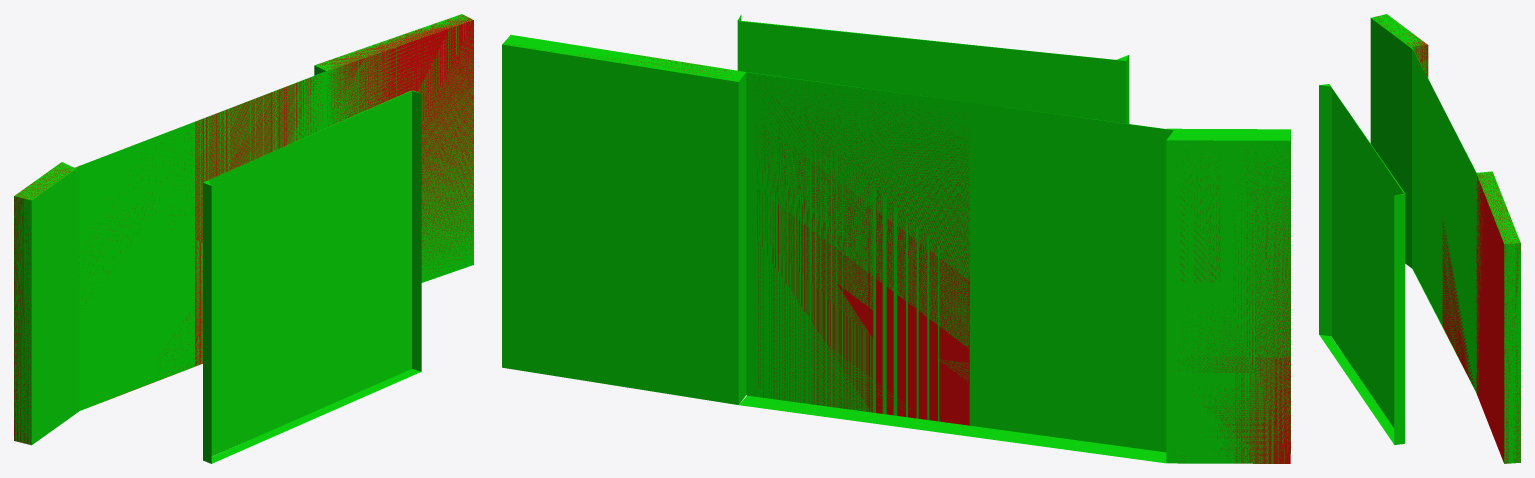
File: InvisibleWall_009.fbx
3 views of the same model, side by side, from view 1: azimuth 30°, elevation 25°; view 2: azimuth 150°, elevation 25°; view 3: azimuth 270°, elevation 25° (orthographic). The views are drawn at different scales.
Visible parts, largest first — view 1: Designer190, Designer103, InvisibleWall_009_Phys; view 2: Designer190, InvisibleWall_009_Phys, Designer103; view 3: Designer190, Designer103, InvisibleWall_009_Phys.
Part boxes in pixels (<box>): Designer190: <box>14,14,473,445</box>; Designer103: <box>203,90,421,463</box>; InvisibleWall_009_Phys: <box>14,14,473,444</box>; Designer190: <box>502,35,1290,463</box>; InvisibleWall_009_Phys: <box>507,44,1290,463</box>; Designer103: <box>737,14,1129,123</box>; Designer190: <box>1370,14,1520,463</box>; Designer103: <box>1319,84,1405,444</box>; InvisibleWall_009_Phys: <box>1374,15,1520,463</box>.
Bounding box in the file's own units: 5785 × 2939 × 2142.
